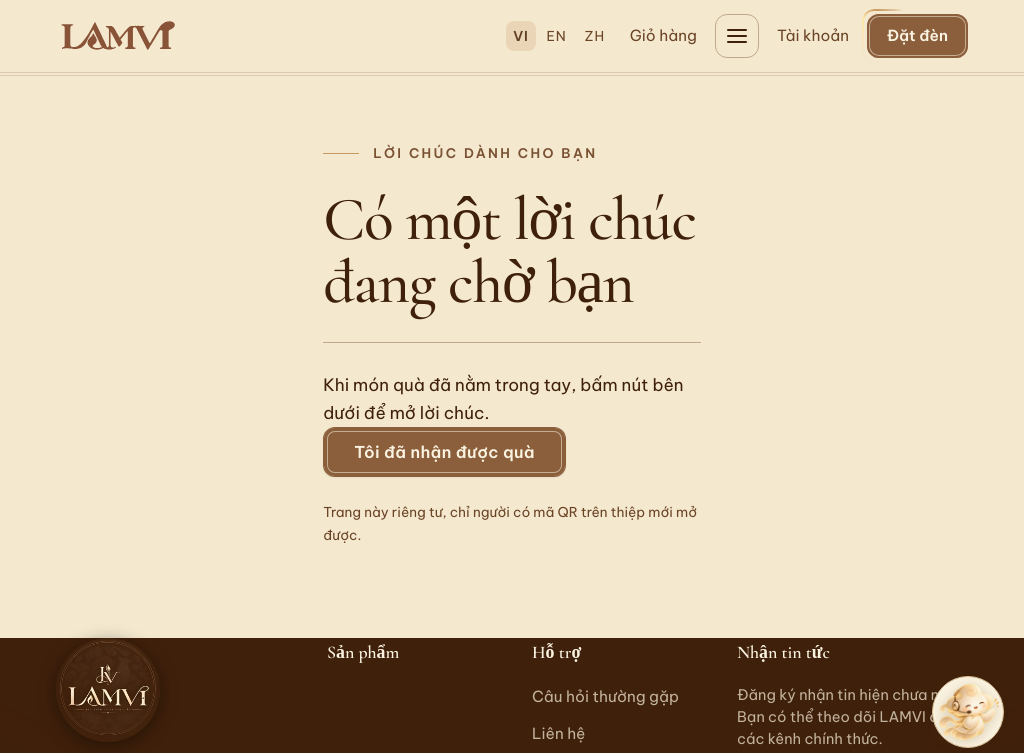
it: Trang QR lời chúc › AC-002: bấm xác nhận → POST rồi hiện chữ, media và đếm ngược
Click the button "Tôi đã nhận được quà": x=445, y=452 [323,427,566,477]
(page scrolled)
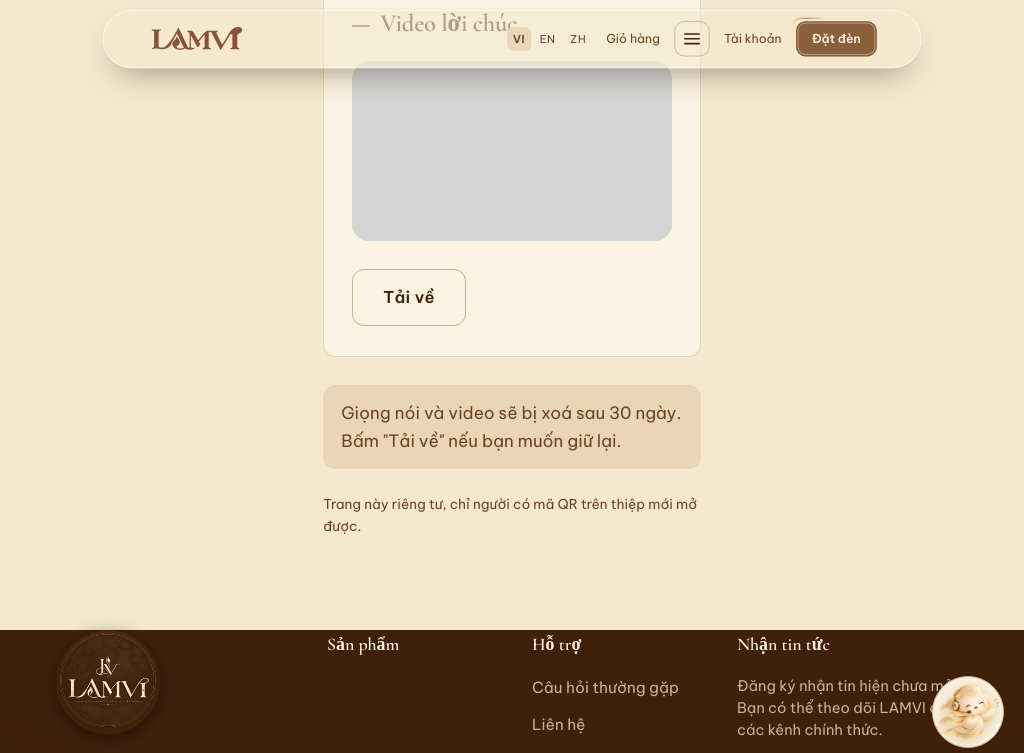
Expected: the number of links "Tải về" is 2
Expected: the text "Giọng nói và video sẽ bị xoá sau 30 ngày. Bấm \"Tải về\" nếu bạn muốn giữ lại." is shown, [323,385,701,469]
